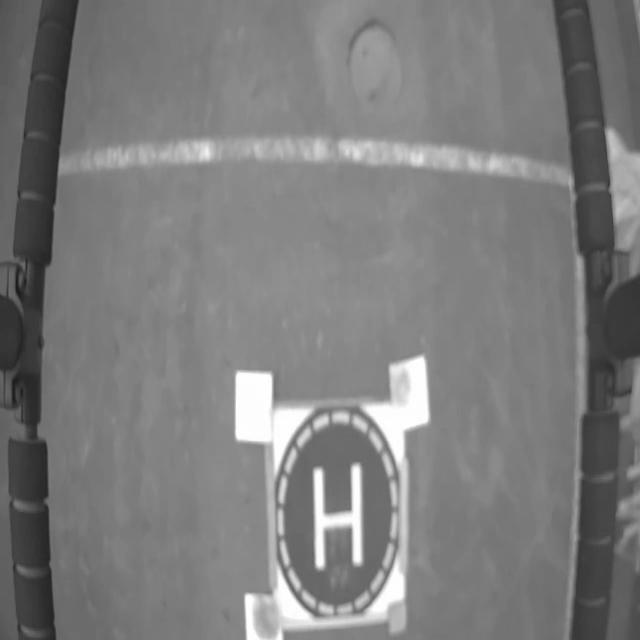Helipad: (312, 463, 362, 570)
